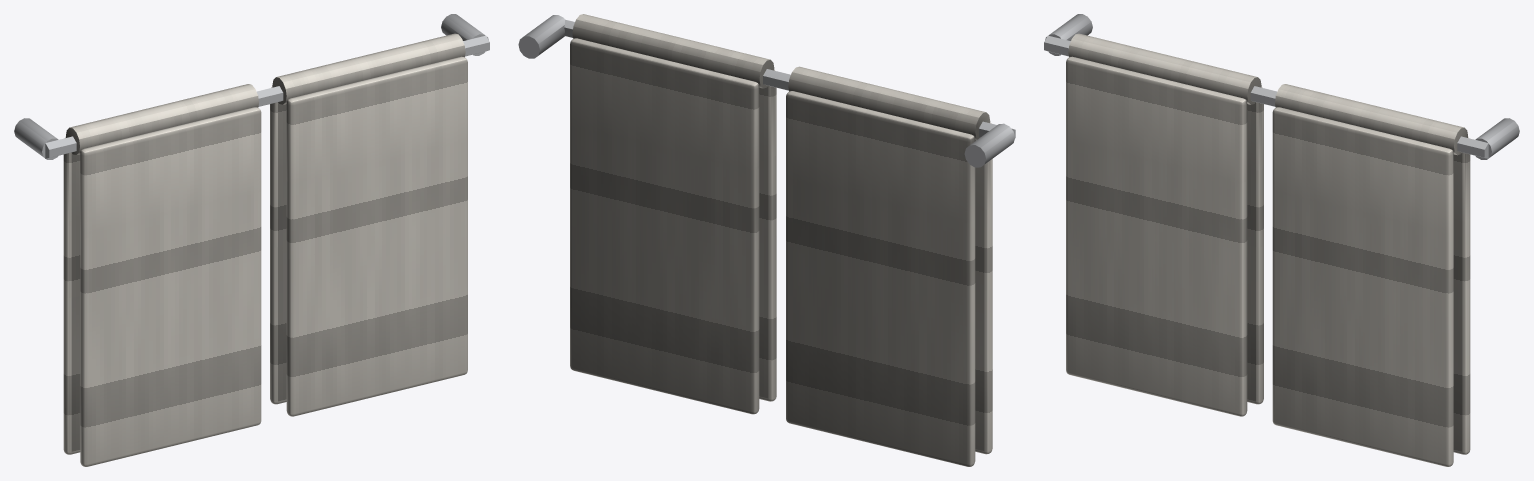
File: towel_rack.glb
The picture shows the model from 3 angles, left to right: view 1: azimuth 30°, elevation 25°; view 2: azimuth 150°, elevation 25°; view 3: azimuth 330°, elevation 25°; orthographic projection. The views are drawn at different scales.
Visible parts, largest first — view 1: body; view 2: body; view 3: body.
Boxes of the visible parts, <box> form: body: <box>14,14,489,466</box>; body: <box>518,14,1015,466</box>; body: <box>1044,14,1519,466</box>.
Size of the model in its own units: 0.65 by 0.462 by 0.098.
Materials: 2 (1 with a texture image).
